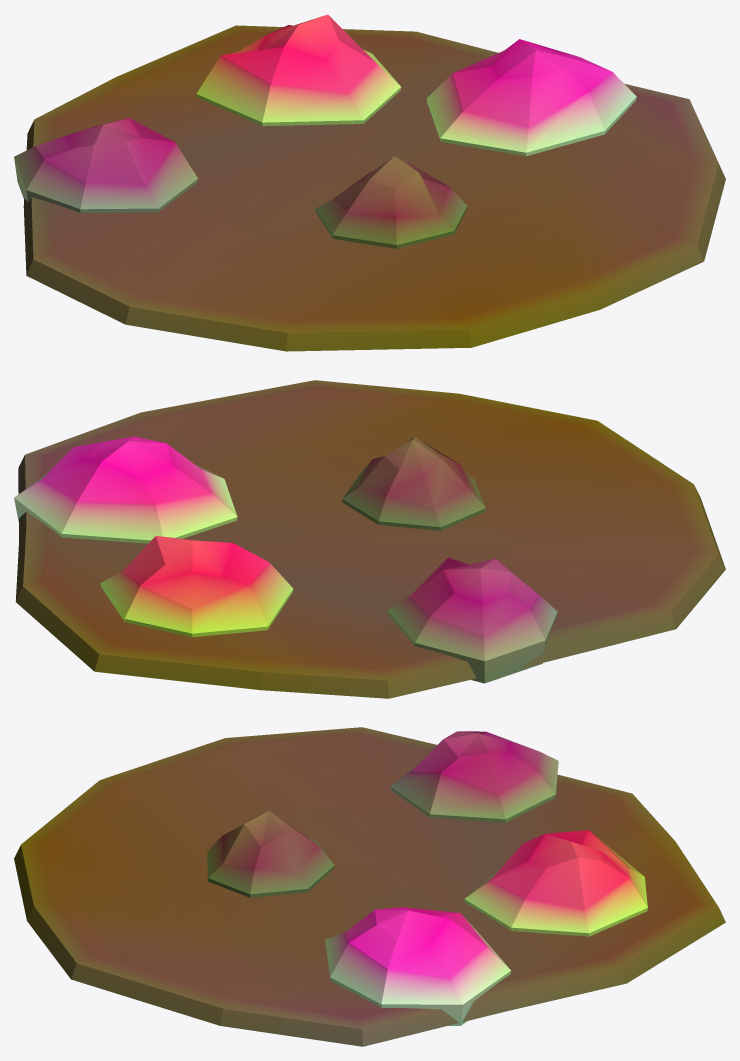
File: Path_Stones_Patch.fbx
The picture shows the model from 3 angles, top to bottom: view 1: azimuth 30°, elevation 25°; view 2: azimuth 150°, elevation 25°; view 3: azimuth 270°, elevation 25°; orthographic projection. The views are drawn at different scales.
Visible parts, largest first — view 1: Path_Stones_Patch; view 2: Path_Stones_Patch; view 3: Path_Stones_Patch.
Part boxes in pixels (left/top/right/bottom): Path_Stones_Patch: left=14, top=14, right=725, bottom=351; Path_Stones_Patch: left=14, top=380, right=725, bottom=698; Path_Stones_Patch: left=14, top=727, right=725, bottom=1046.
Size of the model in its own units: 2.05 by 0.2409 by 2.01.
